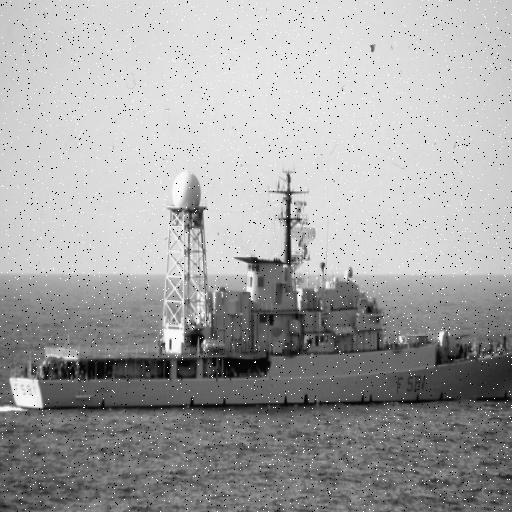Fragata: (8, 156, 512, 419)
